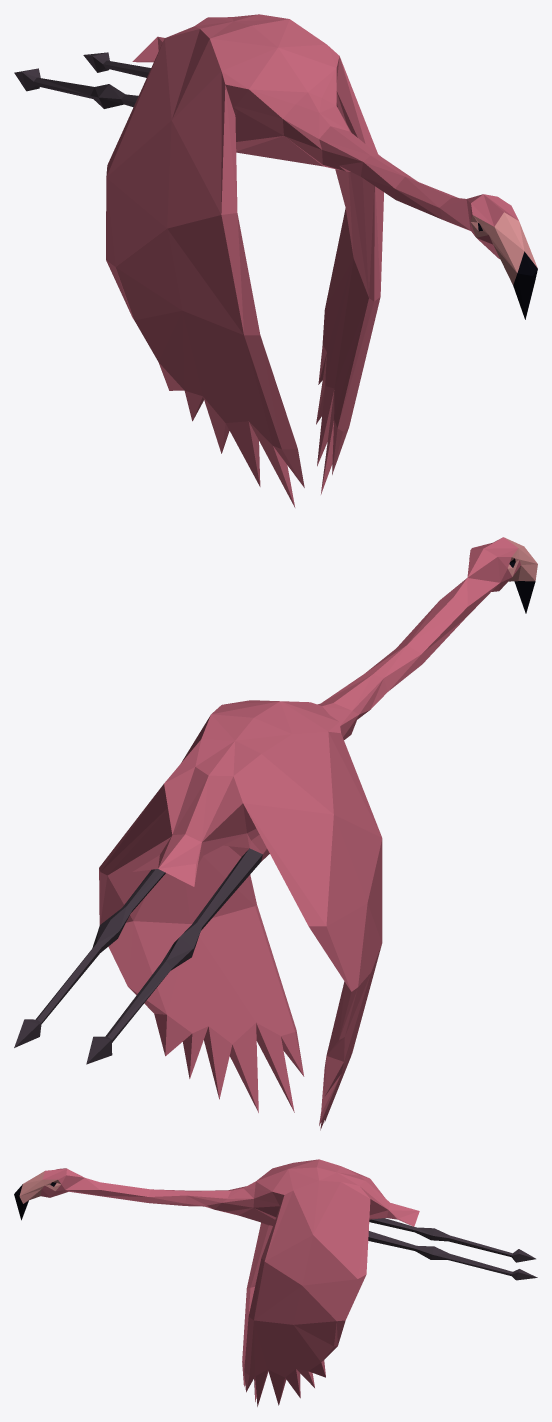
Rendered from Flamingo_u2.glb.
3 renders of one model, top to bottom at view 1: azimuth 30°, elevation 25°; view 2: azimuth 150°, elevation 25°; view 3: azimuth 270°, elevation 25°, orthographic. The views are drawn at different scales.
Visible parts, largest first — view 1: Object_0; view 2: Object_0; view 3: Object_0.
Part boxes in pixels (bbox=[...]): Object_0: bbox=[14, 14, 537, 507]; Object_0: bbox=[14, 537, 537, 1130]; Object_0: bbox=[14, 1159, 537, 1406].
Bounding box in the file's own units: 1.57 × 2.67 × 5.3.
